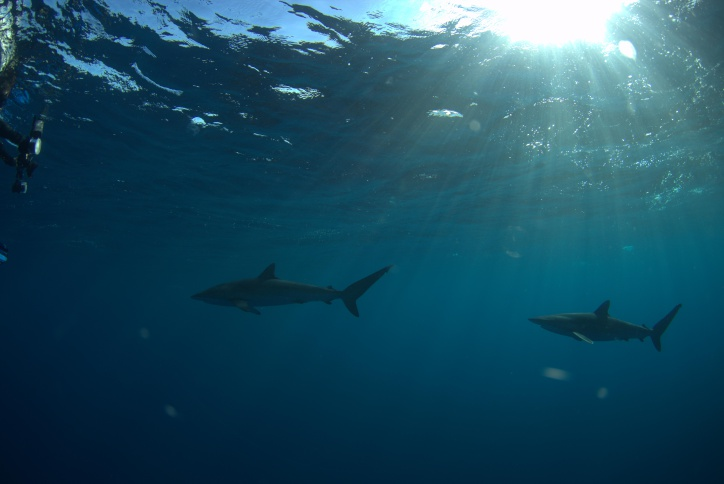Sedoso: (179, 256, 405, 340)
